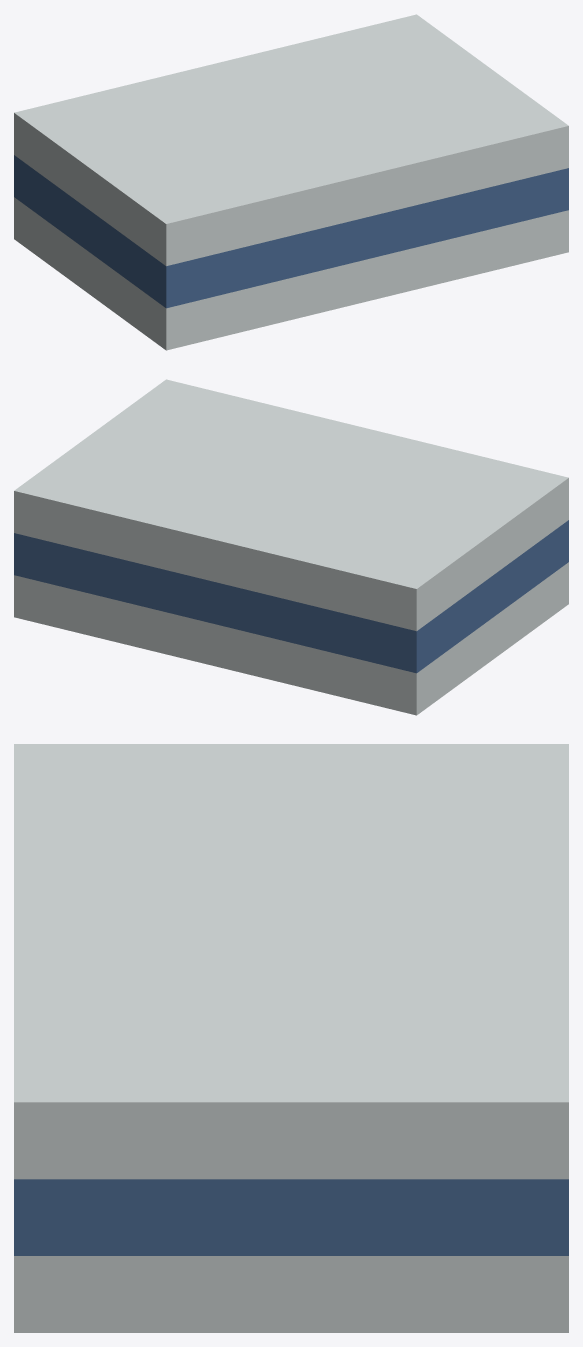
File: folded_blanket.glb
3 views of the same model, one above another, from view 1: azimuth 30°, elevation 25°; view 2: azimuth 150°, elevation 25°; view 3: azimuth 270°, elevation 25° (orthographic). The views are drawn at different scales.
Visible parts, largest first — view 1: _MeshInstance3D_1133, _MeshInstance3D_1132, _MeshInstance3D_1131; view 2: _MeshInstance3D_1133, _MeshInstance3D_1132, _MeshInstance3D_1131; view 3: _MeshInstance3D_1133, _MeshInstance3D_1131, _MeshInstance3D_1132.
Boxes of the visible parts, x1=… form: _MeshInstance3D_1133: x1=14, y1=14, x2=568, y2=266; _MeshInstance3D_1132: x1=14, y1=155, x2=568, y2=308; _MeshInstance3D_1131: x1=14, y1=197, x2=568, y2=350; _MeshInstance3D_1133: x1=14, y1=379, x2=568, y2=631; _MeshInstance3D_1132: x1=14, y1=520, x2=568, y2=673; _MeshInstance3D_1131: x1=14, y1=562, x2=568, y2=715; _MeshInstance3D_1133: x1=14, y1=744, x2=568, y2=1179; _MeshInstance3D_1131: x1=14, y1=1256, x2=568, y2=1332; _MeshInstance3D_1132: x1=14, y1=1179, x2=568, y2=1255.
Size of the model in its own units: 0.55 by 0.165 by 0.36.
